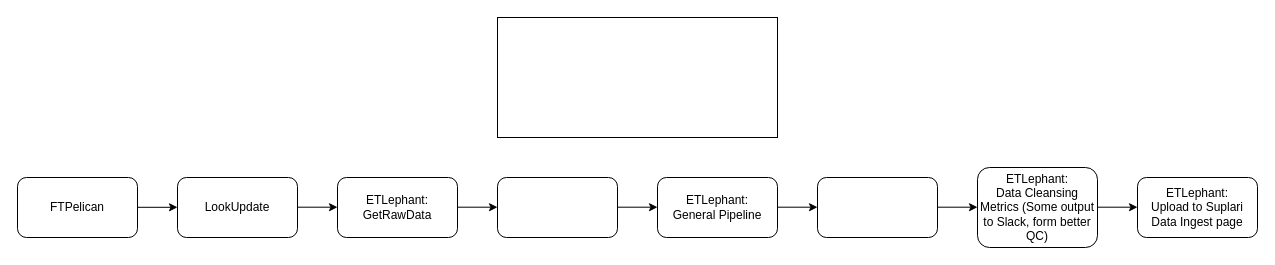
Some shapes in this 1275 by 265 pixel diagram are drawn without their labels. Here are the shapes that lost their labels. From the top down, the centre of each, then its label:
At (637,77): "Automated Data Pipelines Overview Each Customer has one DAG. DAGs".
At (557,207): "ETLephant: Pre-General Customer Pipelines".
At (877,207): "ETLephant: Post -General Customer Pipelines".
